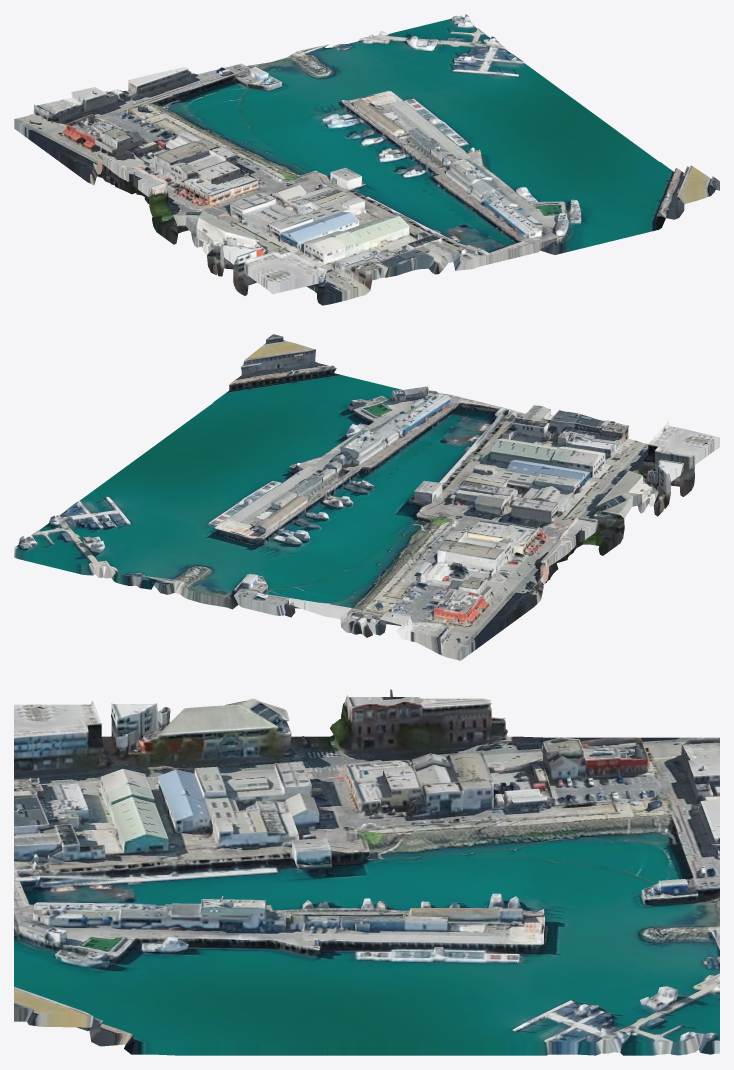
Rendered from z17-20964-50646-h0-yup-uvflip-v3-world.glb.
3 renders of one model, top to bottom at view 1: azimuth 30°, elevation 25°; view 2: azimuth 150°, elevation 25°; view 3: azimuth 270°, elevation 25°, orthographic. The views are drawn at different scales.
Bounding box in the file's own units: 241 × 26.24 × 243.
1 material, 1 textured.
